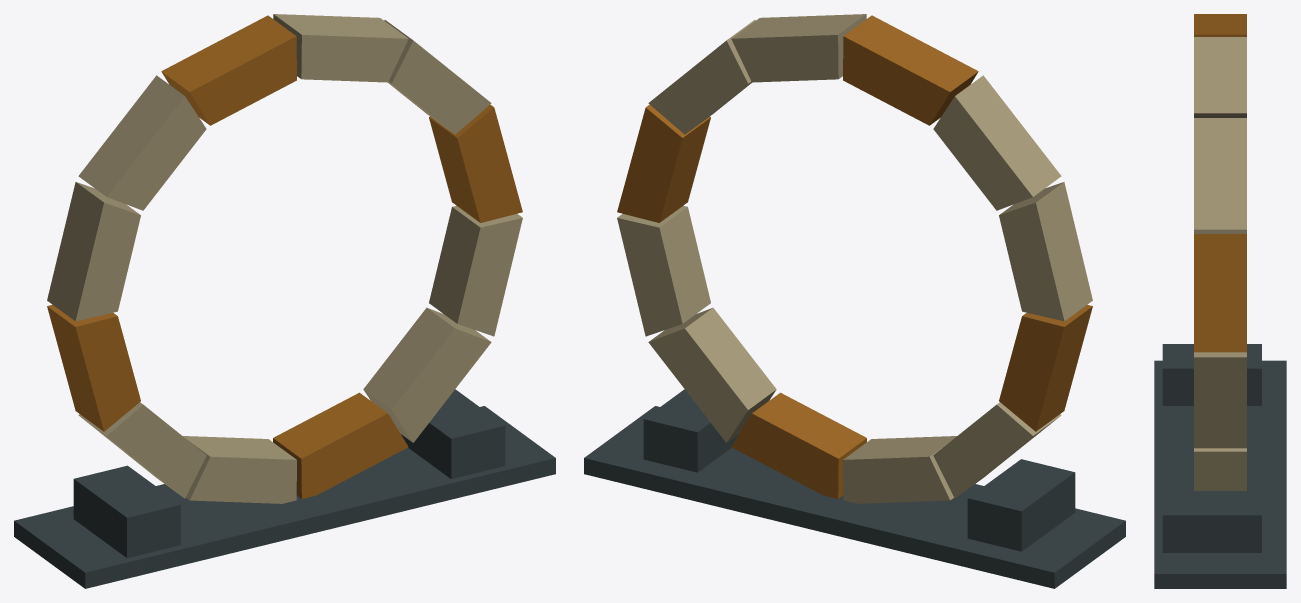
The model's file is portal_ring.obj.
The picture shows the model from 3 angles, left to right: view 1: azimuth 30°, elevation 25°; view 2: azimuth 150°, elevation 25°; view 3: azimuth 270°, elevation 25°; orthographic projection. The views are drawn at different scales.
Visible parts, largest first — view 1: platform, ring_support, ring_segment_04, ring_segment_05, ring_segment_10, ring_segment_03, ring_segment_11, ring_segment_09, ring_segment_06, ring_segment_02, ring_segment_00, ring_segment_08 (+2 smaller); view 2: platform, ring_support, ring_segment_04, ring_segment_05, ring_segment_10, ring_segment_03, ring_segment_11, ring_segment_09, ring_segment_06, ring_segment_02, ring_segment_00, ring_segment_08 (+2 smaller); view 3: platform, ring_support, ring_segment_00, ring_segment_01, ring_segment_11, ring_segment_02, ring_segment_10, ring_segment_03.
Boxes of the visible parts, x1,y1,x2,y2 form: platform: (14, 406, 555, 588); ring_support: (73, 389, 505, 558); ring_segment_04: (78, 75, 206, 210); ring_segment_05: (47, 182, 140, 321); ring_segment_10: (363, 307, 491, 442); ring_segment_03: (161, 15, 296, 125); ring_segment_11: (429, 205, 522, 336); ring_segment_09: (273, 392, 408, 498); ring_segment_06: (47, 305, 140, 431); ring_segment_02: (273, 14, 408, 82); ring_segment_00: (429, 104, 522, 222); ring_segment_08: (183, 436, 296, 503); platform: (584, 406, 1125, 588); ring_support: (643, 389, 1075, 551); ring_segment_04: (933, 75, 1061, 210); ring_segment_05: (999, 182, 1092, 321); ring_segment_10: (648, 307, 776, 442); ring_segment_03: (843, 15, 978, 125); ring_segment_11: (617, 205, 710, 336); ring_segment_09: (731, 392, 866, 498); ring_segment_06: (999, 305, 1092, 431); ring_segment_02: (731, 14, 866, 82); ring_segment_00: (617, 104, 710, 222); ring_segment_08: (843, 436, 956, 503); platform: (1154, 360, 1286, 588); ring_support: (1162, 344, 1261, 552); ring_segment_00: (1194, 235, 1246, 352); ring_segment_01: (1194, 118, 1246, 233); ring_segment_11: (1194, 352, 1246, 448); ring_segment_02: (1194, 37, 1246, 117); ring_segment_10: (1194, 448, 1246, 490); ring_segment_03: (1194, 14, 1246, 36).
Size of the model in its own units: 6.1 by 5.95 by 1.6.
